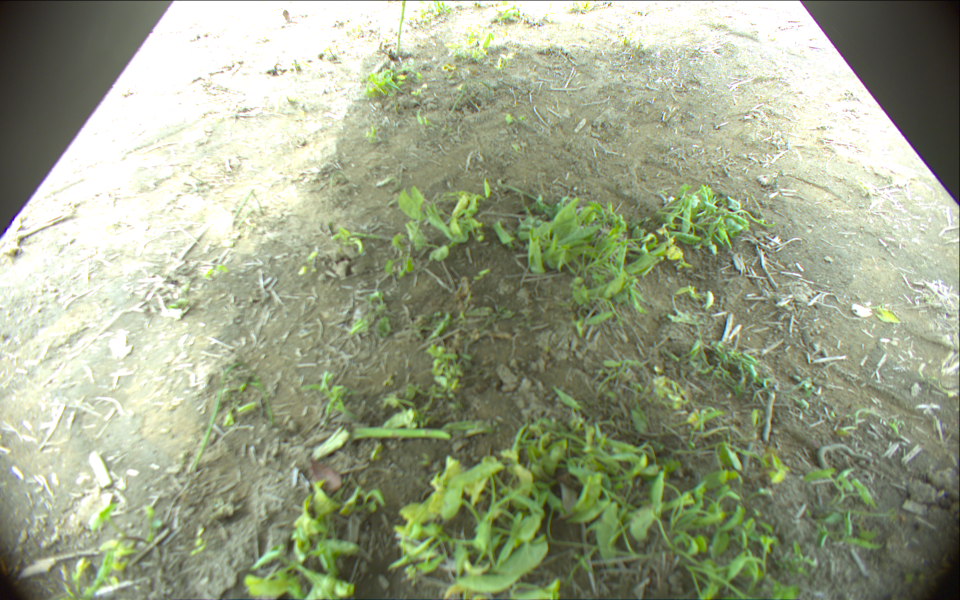aspa: (356, 429, 454, 440), (394, 1, 407, 56)
